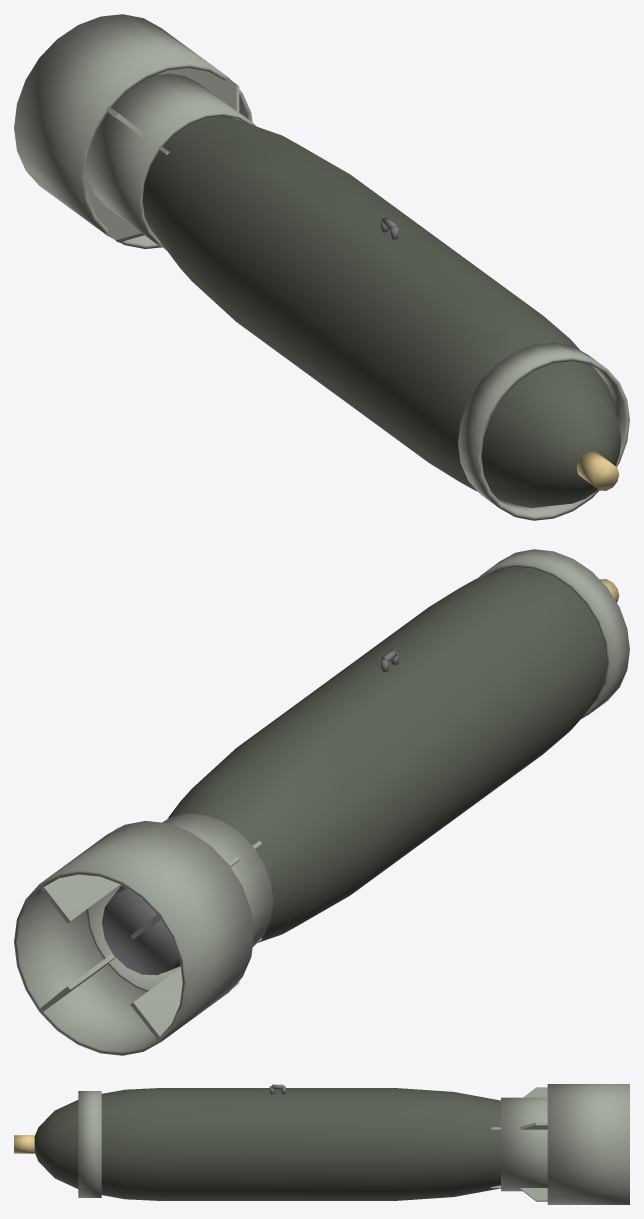
The model's file is bombs.glb.
3 renders of one model, top to bottom at view 1: azimuth 30°, elevation 25°; view 2: azimuth 150°, elevation 25°; view 3: azimuth 270°, elevation 25°, orthographic. The views are drawn at different scales.
Parts seen in each view (by area): view 1: FAB1500_geo, FAB500_geo; view 2: FAB1500_geo, FAB500_geo; view 3: FAB1500_geo, FAB500_geo.
Boxes of the visible parts, bbox=[...] form: FAB1500_geo: bbox=[14, 14, 629, 520]; FAB500_geo: bbox=[86, 73, 256, 250]; FAB1500_geo: bbox=[14, 549, 629, 1055]; FAB500_geo: bbox=[86, 813, 273, 991]; FAB1500_geo: bbox=[14, 1084, 629, 1204]; FAB500_geo: bbox=[490, 1097, 547, 1191].
Size of the model in its own units: 0.6206 by 0.6471 by 3.15.
Materials: 4 (1 with a texture image).
